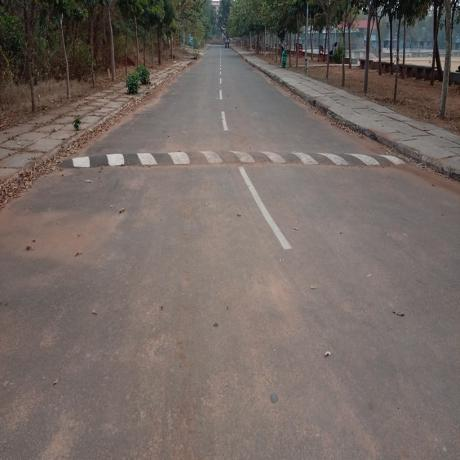Speed Bump: (57, 148, 406, 171)
